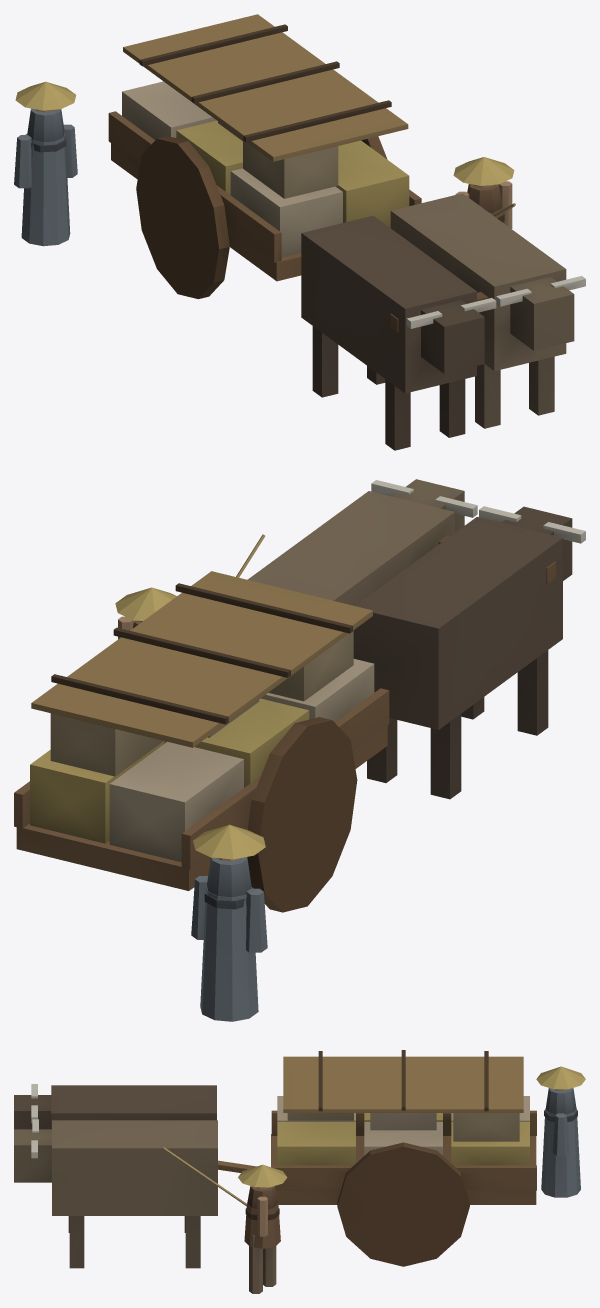
The model's file is wagon.glb.
3 renders of one model, top to bottom at view 1: azimuth 30°, elevation 25°; view 2: azimuth 150°, elevation 25°; view 3: azimuth 270°, elevation 25°, orthographic. The views are drawn at different scales.
Parts seen in each view (by area): view 1: base; view 2: base; view 3: base.
Part boxes in pixels (bbox=[...]): base: bbox=[14, 14, 585, 450]; base: bbox=[14, 479, 585, 1021]; base: bbox=[14, 1050, 585, 1293].
Size of the model in its own units: 3.42 by 2.11 by 6.9.
